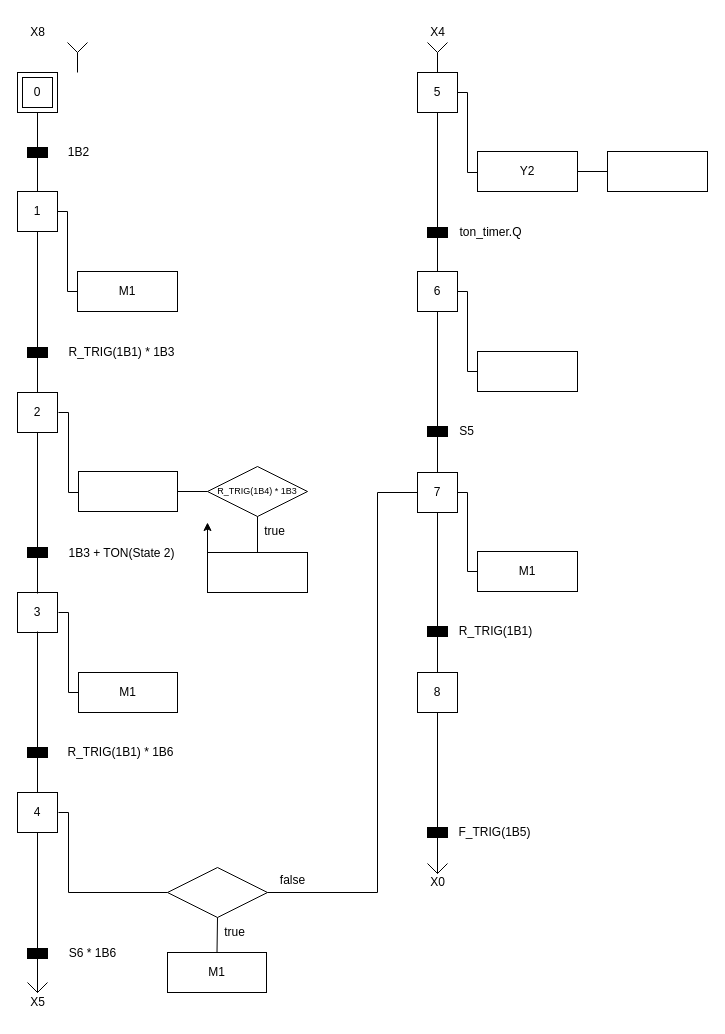
The diagram is 725 pixels wide and 1034 high, and some of its shapes have lost their labels. Here are the shapes that lost their labels. From the top down, the centre of each, then its label:
At point (657, 171): "M2".
At point (527, 371): "M3 R".
At point (128, 491): "Y1".
At point (257, 572): "merker := 1".
At point (217, 892): "merker = 1".
